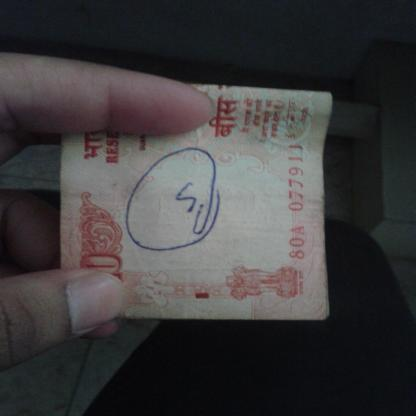Old20Front: (64, 82, 322, 320)
